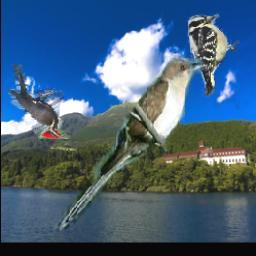Cuckoo: (54, 55, 208, 237)
Woodpecker: (9, 64, 72, 139), (186, 14, 240, 98)
